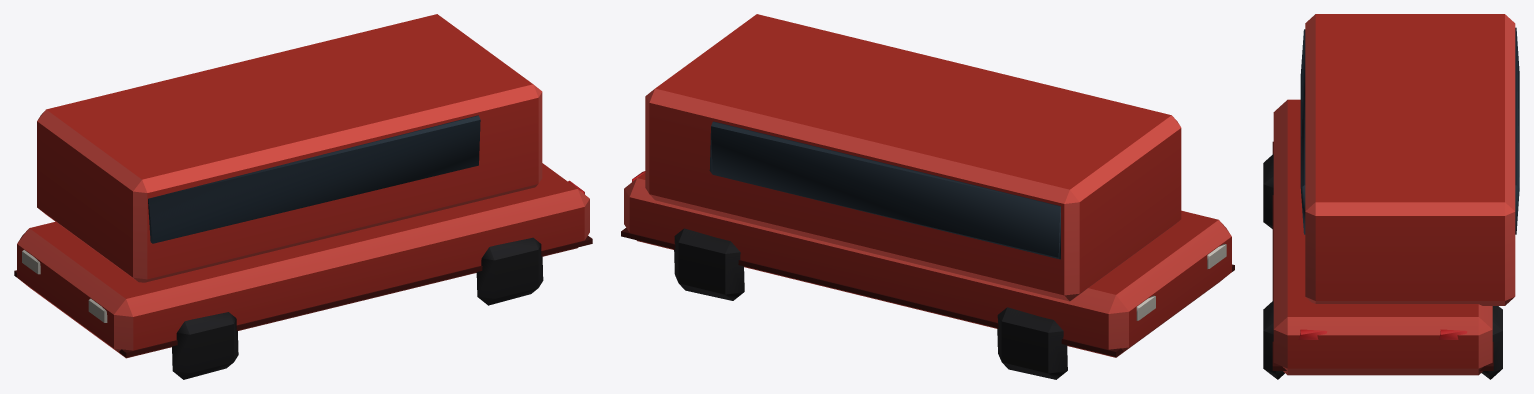
Rendered from car-van-v1.lod1.glb.
3 views of the same model, side by side, from view 1: azimuth 30°, elevation 25°; view 2: azimuth 150°, elevation 25°; view 3: azimuth 270°, elevation 25° (orthographic). The views are drawn at different scales.
Visible parts, largest first — view 1: car-van-v1.lod1; view 2: car-van-v1.lod1; view 3: car-van-v1.lod1.
Part boxes in pixels (<box>): car-van-v1.lod1: <box>14,14,592,379</box>; car-van-v1.lod1: <box>621,14,1234,379</box>; car-van-v1.lod1: <box>1263,14,1519,379</box>.
Bounding box in the file's own units: 5.24 × 1.99 × 2.46.
